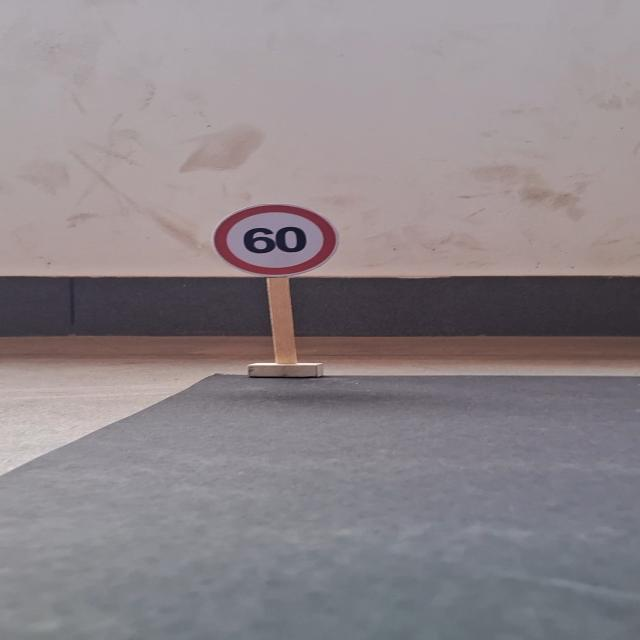Speed60: (210, 204, 338, 278)
